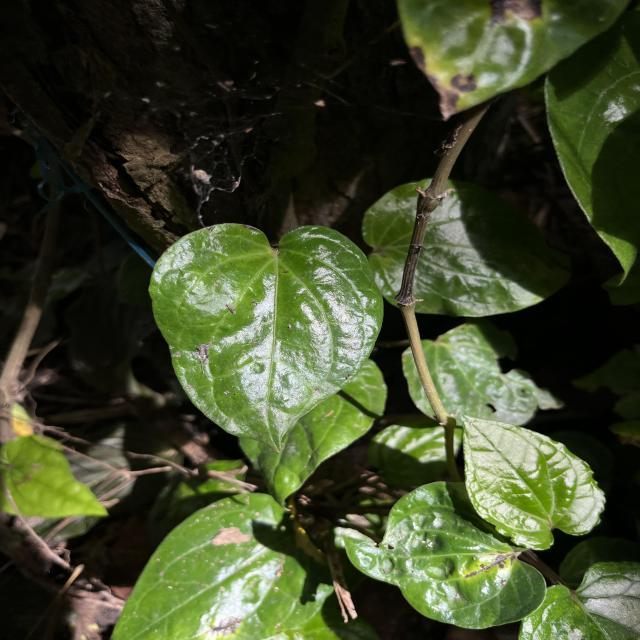Piper betle: (147, 220, 386, 454)
